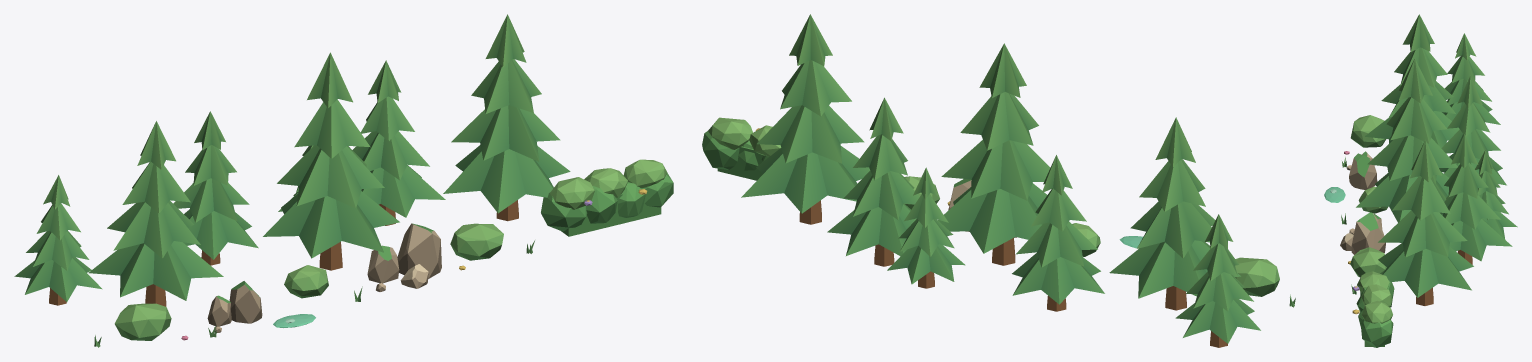
The model's file is ranch_border_chunk_d_m.fbx.
3 views of the same model, side by side, from view 1: azimuth 30°, elevation 25°; view 2: azimuth 150°, elevation 25°; view 3: azimuth 270°, elevation 25° (orthographic). The views are drawn at different scales.
Parts seen in each view (by area): view 1: ranch_border_chunk_d_m; view 2: ranch_border_chunk_d_m; view 3: ranch_border_chunk_d_m.
Part boxes in pixels (x1=…): ranch_border_chunk_d_m: x1=14, y1=14, x2=673, y2=347; ranch_border_chunk_d_m: x1=702, y1=14, x2=1295, y2=347; ranch_border_chunk_d_m: x1=1324, y1=14, x2=1517, y2=347.
Bounding box in the file's own units: 55.35 × 19.04 × 19.38.
